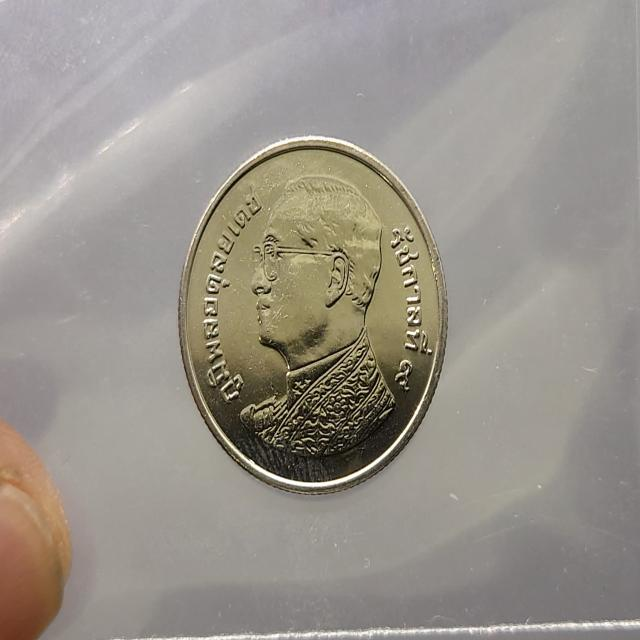1 Bath: (170, 127, 459, 503)
